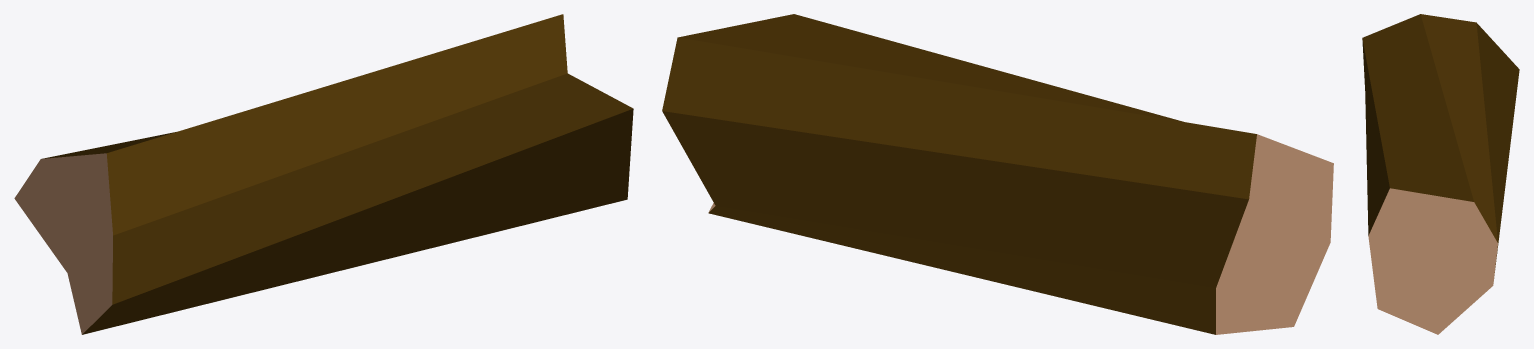
The model's file is Log1.fbx.
3 renders of one model, left to right at view 1: azimuth 30°, elevation 25°; view 2: azimuth 150°, elevation 25°; view 3: azimuth 270°, elevation 25°, orthographic. The views are drawn at different scales.
Visible parts, largest first — view 1: Cylinder.001; view 2: Cylinder.001; view 3: Cylinder.001.
Boxes of the visible parts, left/top/right/bottom form: Cylinder.001: left=14, top=14, right=633, bottom=334; Cylinder.001: left=662, top=14, right=1333, bottom=334; Cylinder.001: left=1362, top=14, right=1519, bottom=334.
Bounding box in the file's own units: 322 × 107 × 110.
